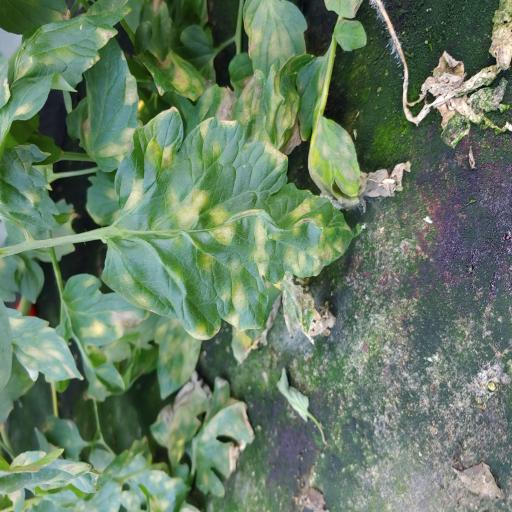Leaf Mold: (104, 107, 356, 341)
